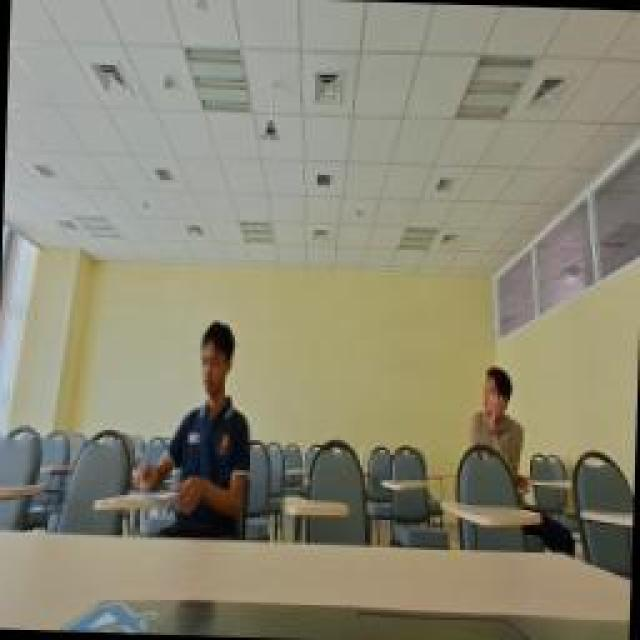study: (130, 315, 252, 537), (468, 365, 532, 513)
